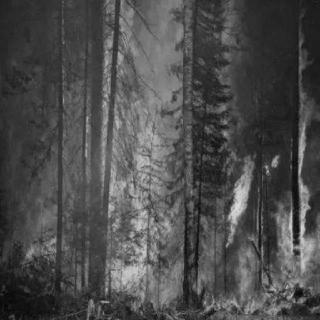Fire: (12, 213, 90, 295)
